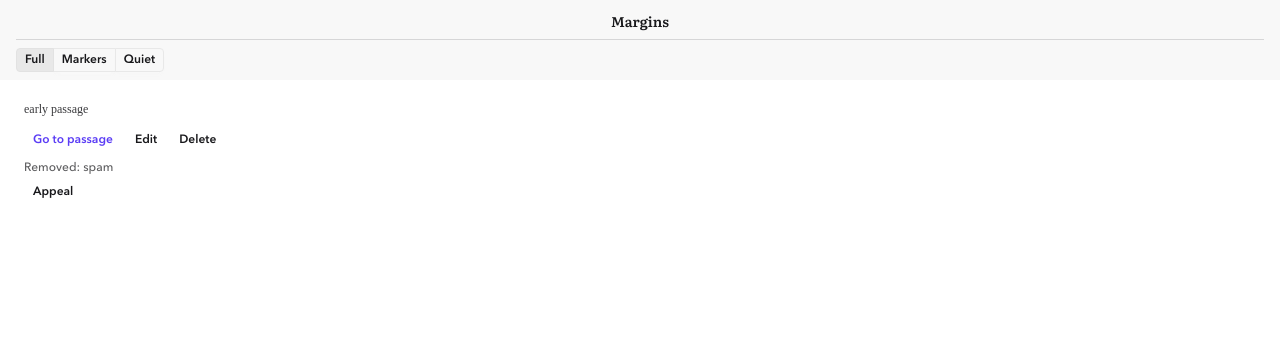
it: MarginsPopover public state › sends an appeal and reports a second one
Click the button "Appeal".
click(53, 192)  # box [24, 180, 82, 204]
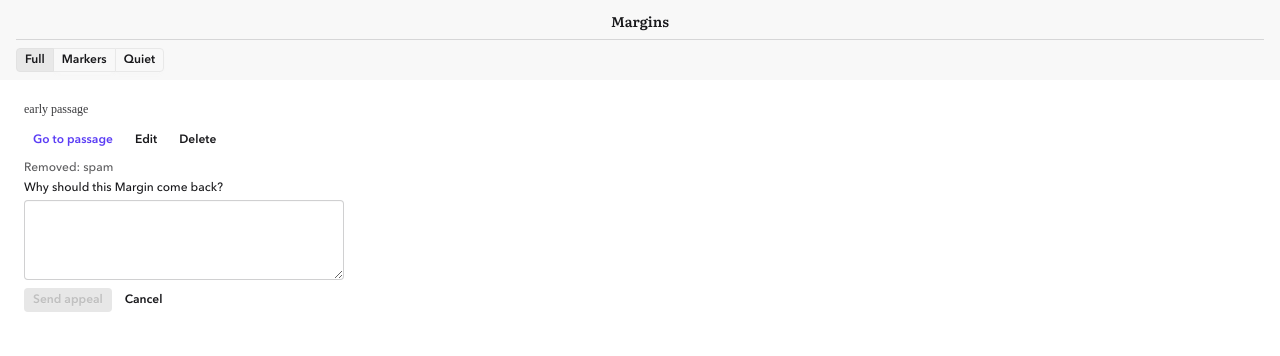
Type "It is my own words." into the text box labelled "Why should this Margin come back?".
click(184, 240); type("It is my own words.")  # box [24, 200, 344, 280]
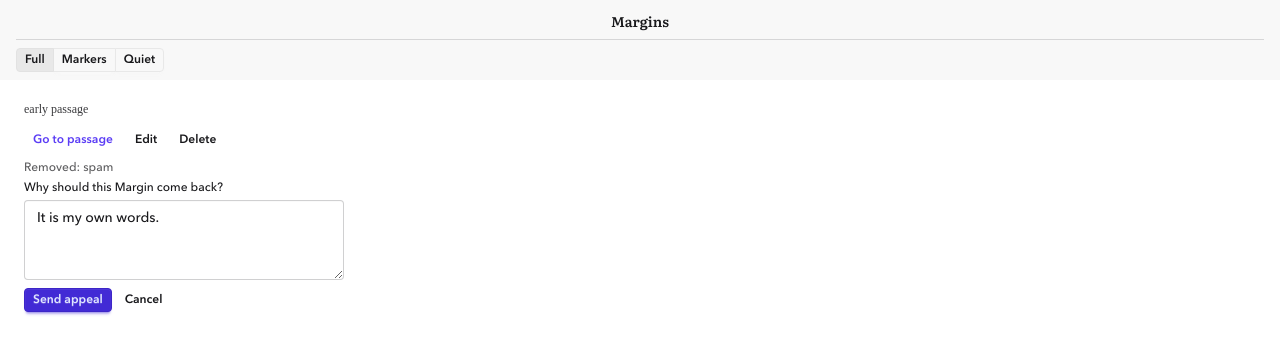
Click the button "Send appeal".
click(68, 300)  # box [24, 288, 112, 312]
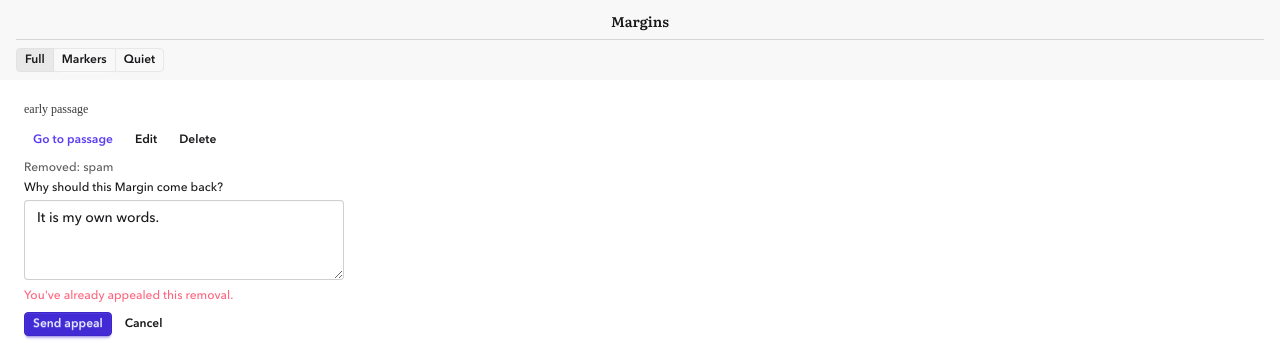
Now the text "You've already appealed this removal." is shown, box [24, 290, 233, 302]
